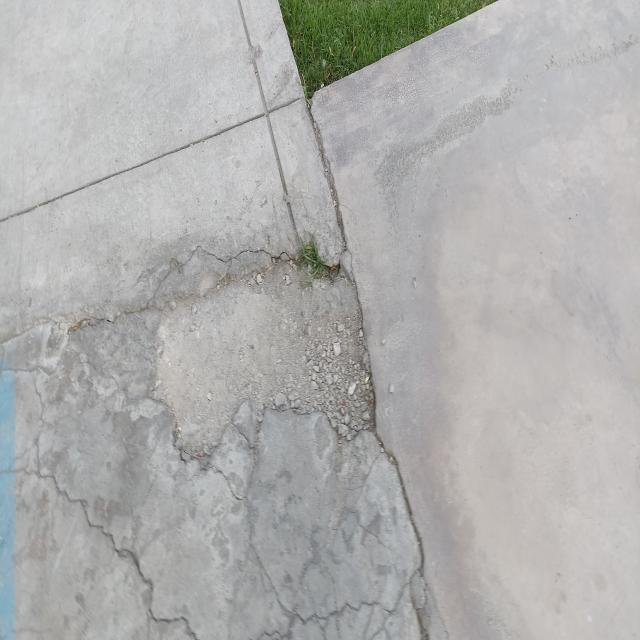hole: (145, 244, 386, 474)
